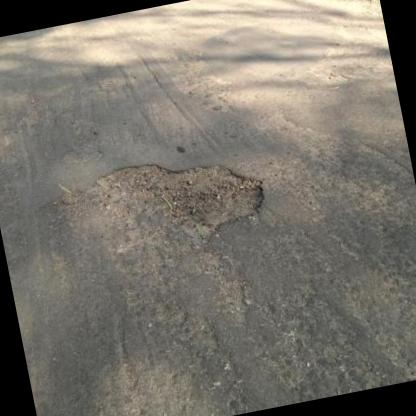pothole: (79, 138, 273, 264)
